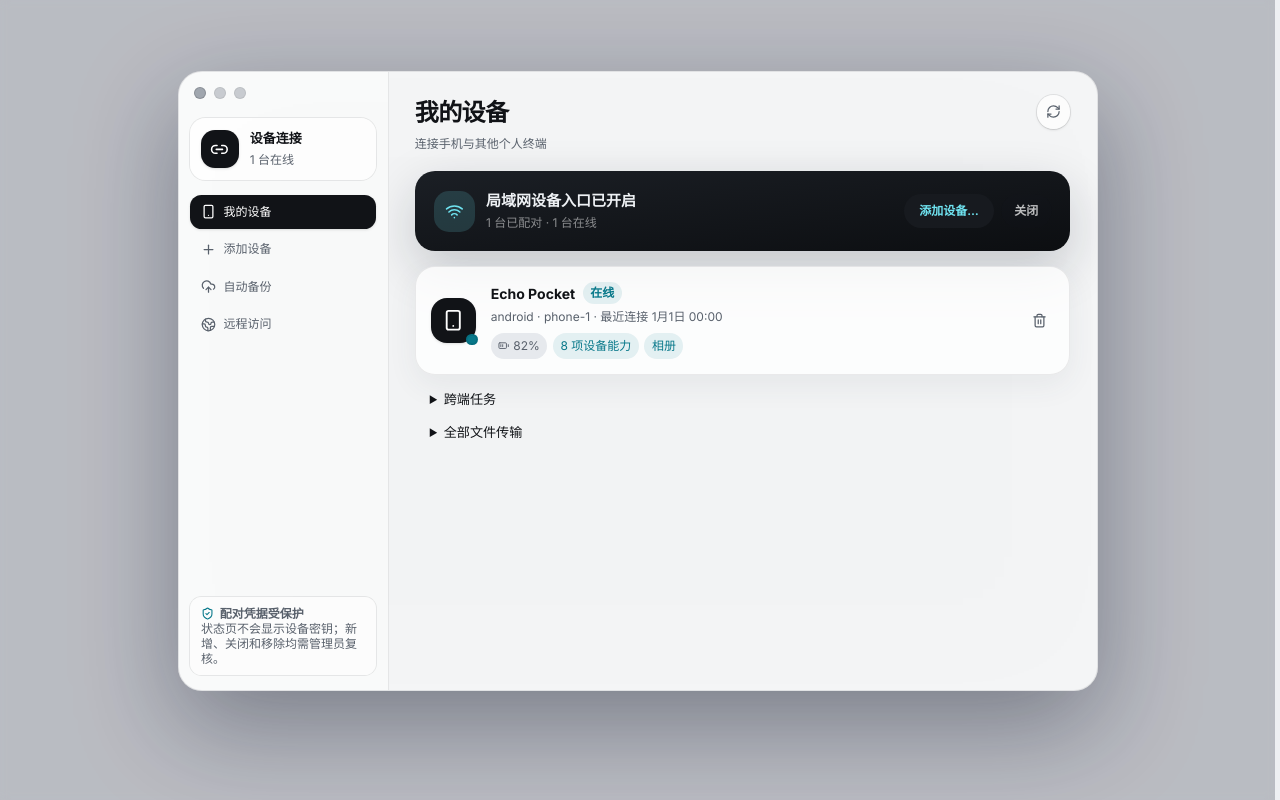
Test: device link panel › shows a connected Tailscale web gateway without claiming remote device control
The image size is (1280, 800).
Expected: the text "Echo Pocket" is shown, [491,282,575,304]
Click the button "远程访问" at (283, 324), box [190,307,376,341]
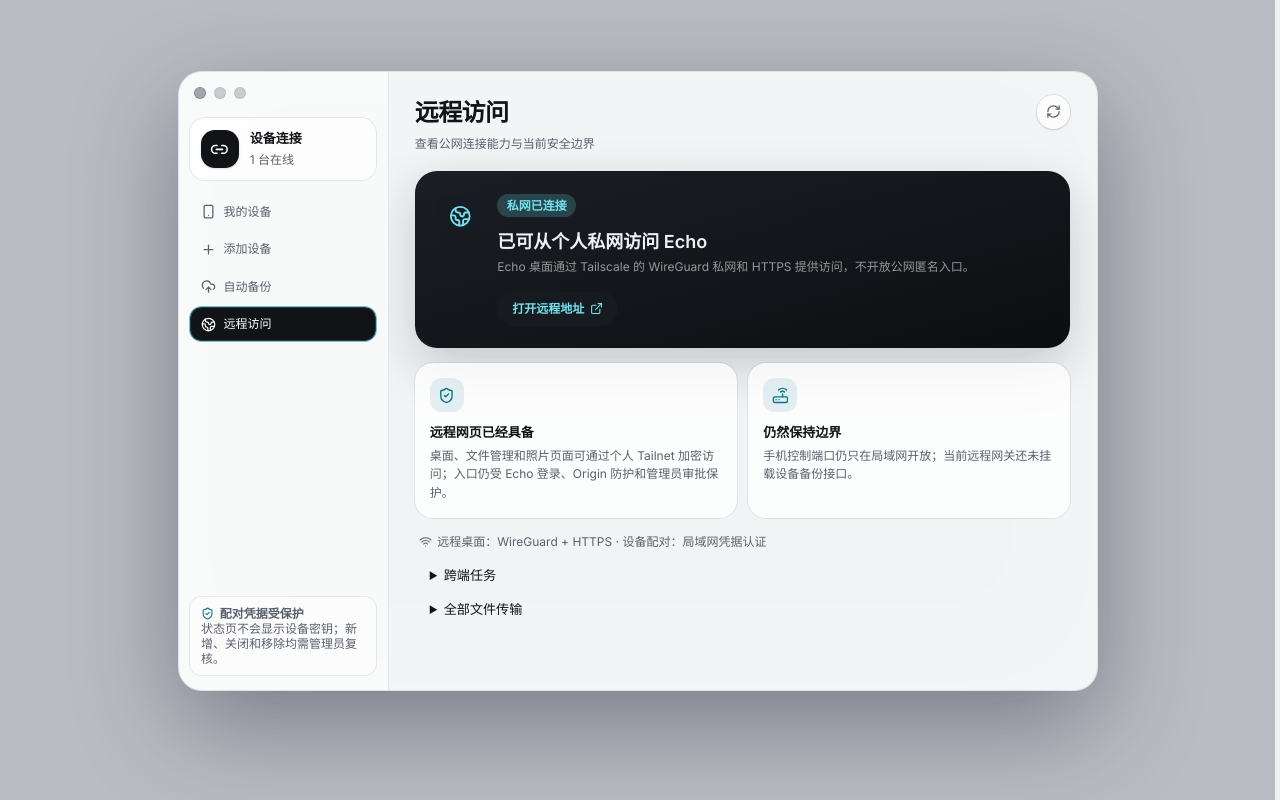
Expected: the heading "已可从个人私网访问 Echo" is shown, [497,230,707,252]
Expected: the text "手机控制端口仍只在局域网开放；当前远程网关还未挂载设备备份接口。" is shown, [763,446,1055,484]
Expected: the text "远程桌面：WireGuard + HTTPS · 设备配对：局域网凭据认证" is shown, [418,534,766,549]
